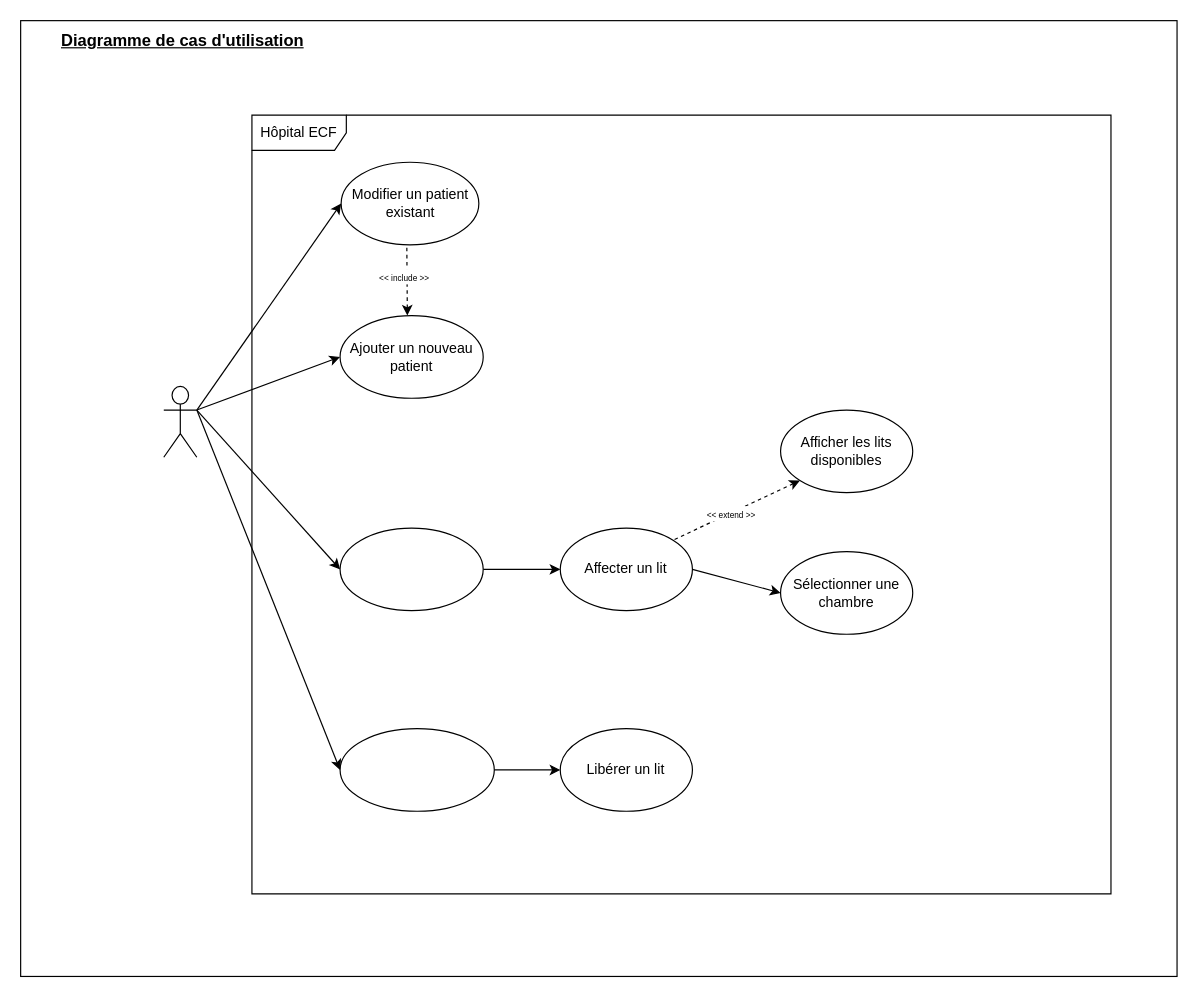
Some shapes in this 1198 by 997 pixel diagram are drawn without their labels. Here are the shapes that lost their labels. From the top down, the centre of each, then its label:
pixel 180 421: Admin
pixel 411 569: Prendre en compte l'entrée d'un patient
pixel 416 769: Prendre en compte la sortie d'un patient
